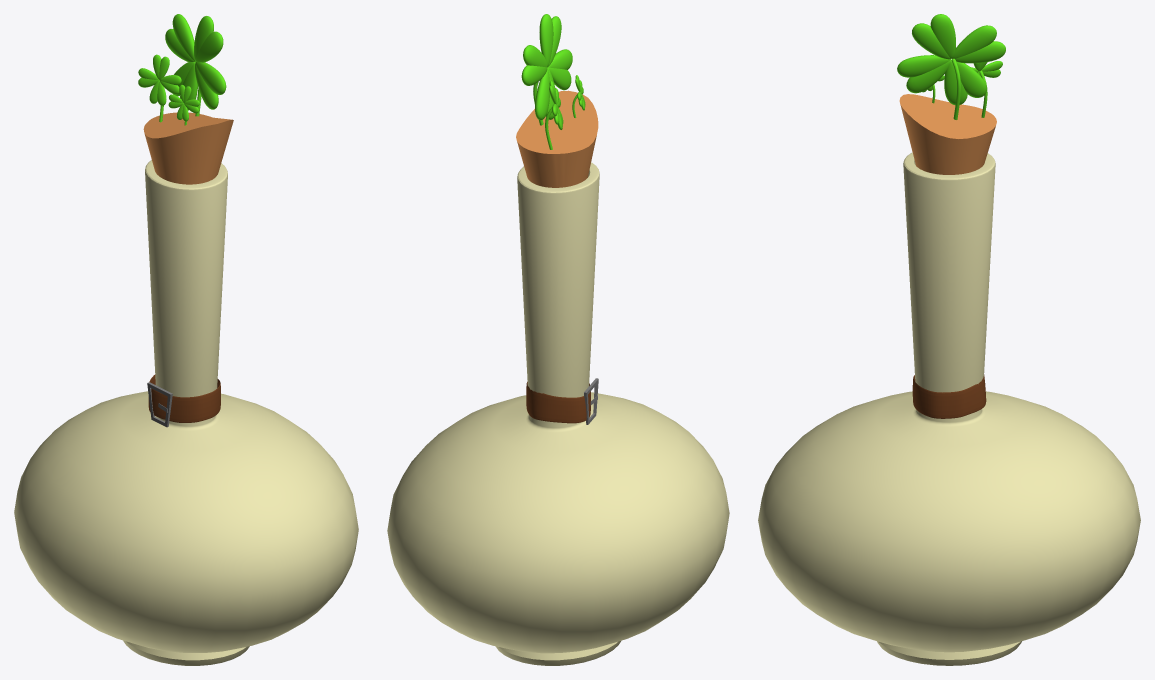
The model's file is luck.fbx.
3 renders of one model, left to right at view 1: azimuth 30°, elevation 25°; view 2: azimuth 150°, elevation 25°; view 3: azimuth 270°, elevation 25°, orthographic. The views are drawn at different scales.
Parts seen in each view (by area): view 1: Cylinder; view 2: Cylinder; view 3: Cylinder.
Boxes of the visible parts, left/top/right/bottom form: Cylinder: left=14, top=14, right=358, bottom=665; Cylinder: left=387, top=14, right=729, bottom=665; Cylinder: left=758, top=14, right=1140, bottom=665.
Size of the model in its own units: 170 by 348 by 191.
